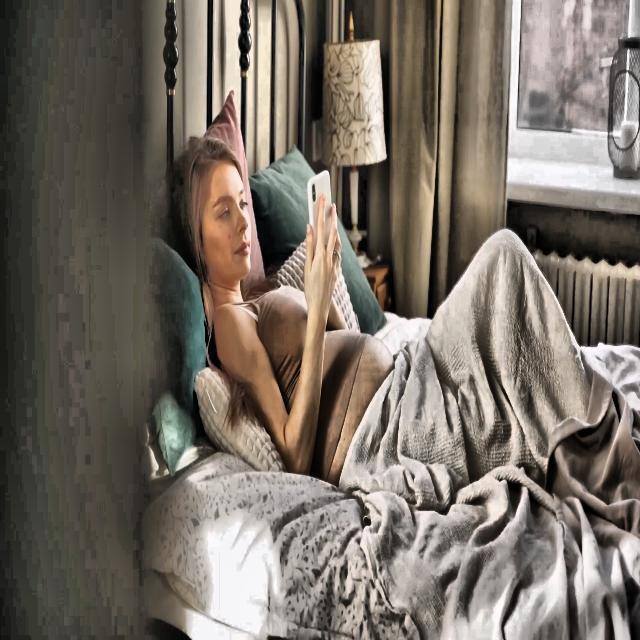Phone: (306, 166, 335, 254)
